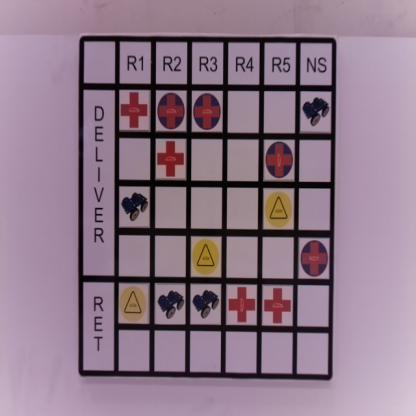OrderBlue: (265, 141, 296, 182), (300, 239, 331, 280), (158, 92, 188, 134), (194, 92, 223, 132)
OrderGurney: (301, 93, 332, 135), (157, 284, 187, 324), (121, 188, 150, 229), (193, 285, 221, 324)
OrderRed: (264, 284, 295, 327), (120, 90, 150, 130), (157, 141, 187, 179), (229, 286, 257, 325)
OrderYellow: (120, 282, 151, 324), (265, 190, 296, 231), (192, 238, 223, 278)
